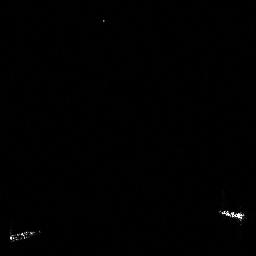ship: (216, 206, 246, 225), (7, 228, 44, 243)
